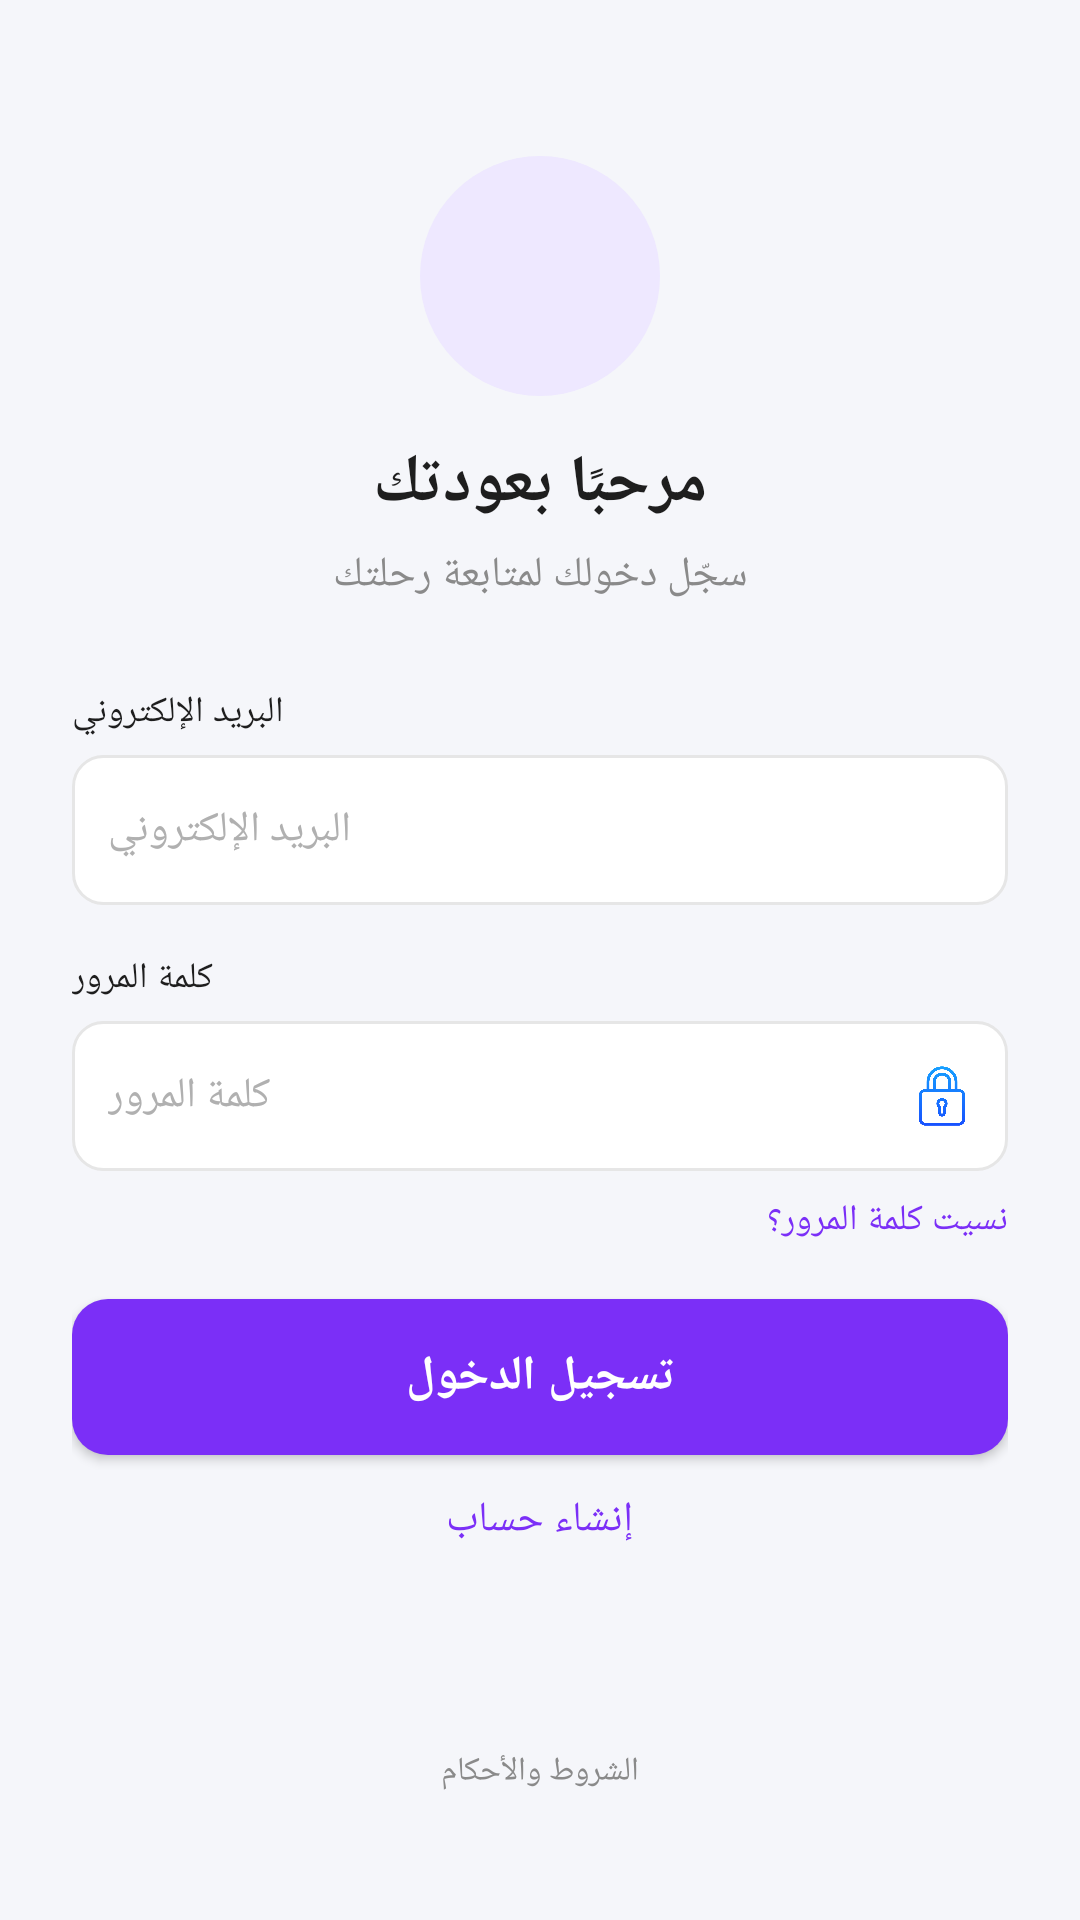

Icon click points for this 1080*1920 phone screenshot, format [x,y]:
lock: [942,1096]
